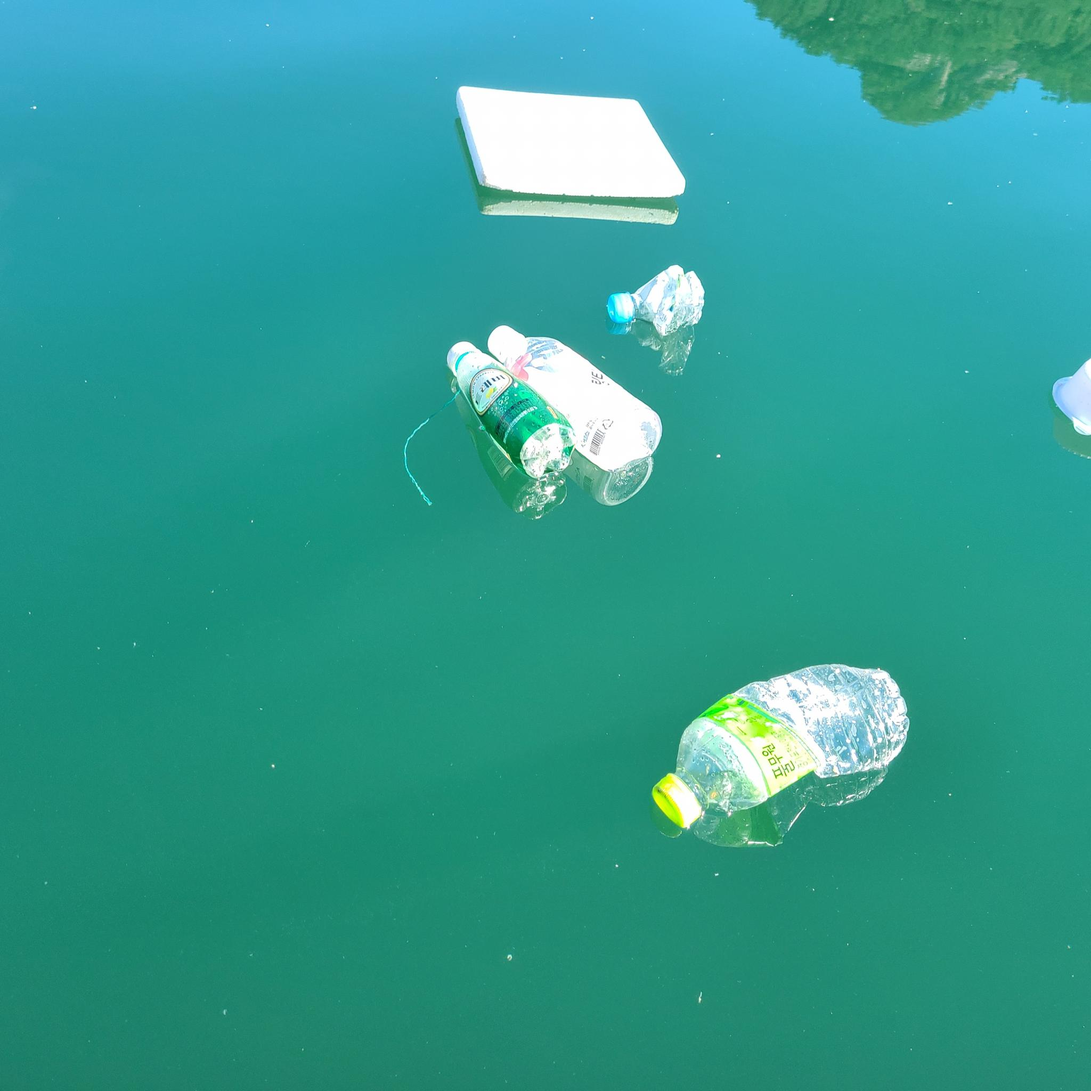sampah_terapung: (653, 664, 910, 828), (457, 86, 687, 198), (488, 325, 663, 471), (447, 341, 577, 479), (608, 265, 706, 337), (1052, 358, 1091, 436)
